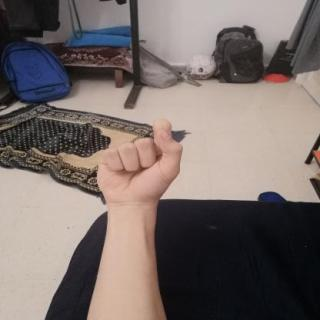FAA: (86, 113, 190, 210)
